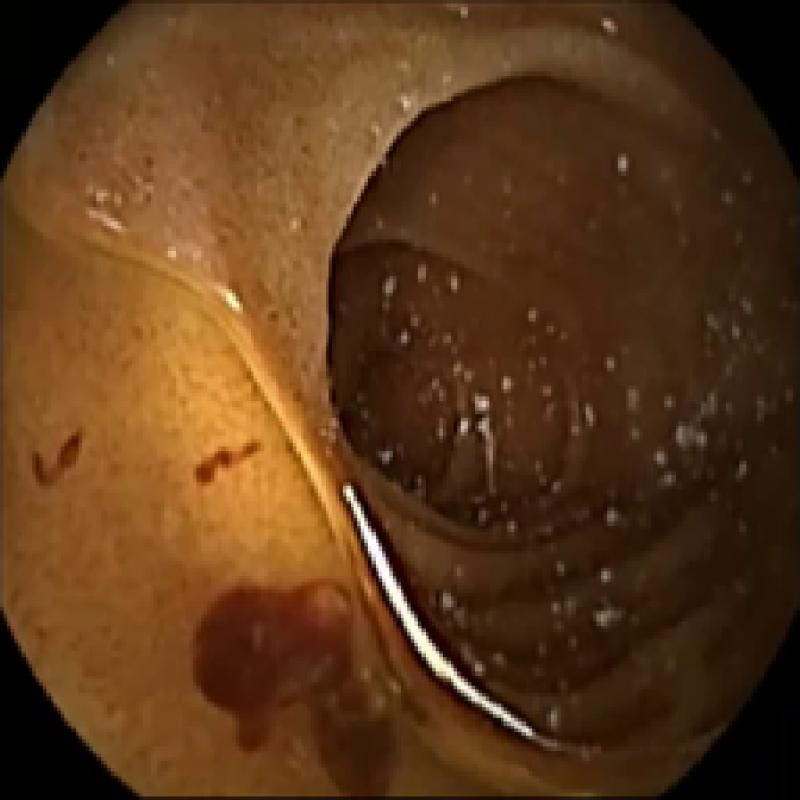bleeding: (195, 574, 430, 788), (191, 431, 262, 484), (21, 436, 86, 482)
